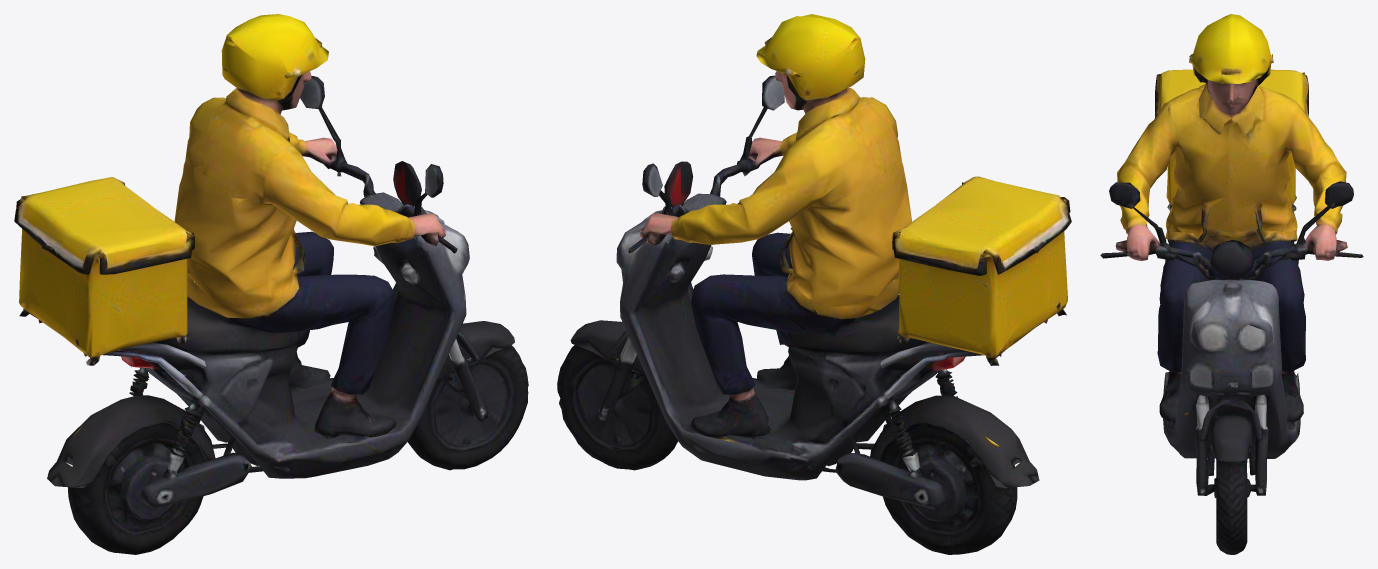
File: ebike.glb
3 renders of one model, left to right at view 1: azimuth 30°, elevation 25°; view 2: azimuth 150°, elevation 25°; view 3: azimuth 270°, elevation 25°, orthographic. The views are drawn at different scales.
Visible parts, largest first — view 1: tripo_node_2b37635f-1a79-448b-aa8d-e15d946d3705; view 2: tripo_node_2b37635f-1a79-448b-aa8d-e15d946d3705; view 3: tripo_node_2b37635f-1a79-448b-aa8d-e15d946d3705.
Part boxes in pixels (left/top/right/bottom): tripo_node_2b37635f-1a79-448b-aa8d-e15d946d3705: left=14, top=14, right=528, bottom=554; tripo_node_2b37635f-1a79-448b-aa8d-e15d946d3705: left=557, top=14, right=1071, bottom=554; tripo_node_2b37635f-1a79-448b-aa8d-e15d946d3705: left=1100, top=14, right=1363, bottom=554.
Bounding box in the file's own units: 0.9794 × 0.9768 × 0.5219.
1 material, 1 textured.
